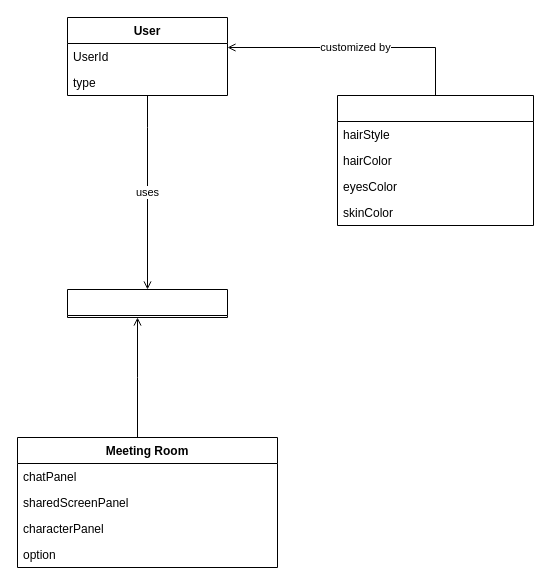
The diagram is 551 pixels wide and 588 high, and some of its shapes have lost their labels. The shapes that lost their labels are listed below. From the top down, each one's box as (x1, y1, x2, y2) in pixels, then its label:
(336, 94, 534, 226): Character Customization
(66, 288, 228, 318): Java Application
